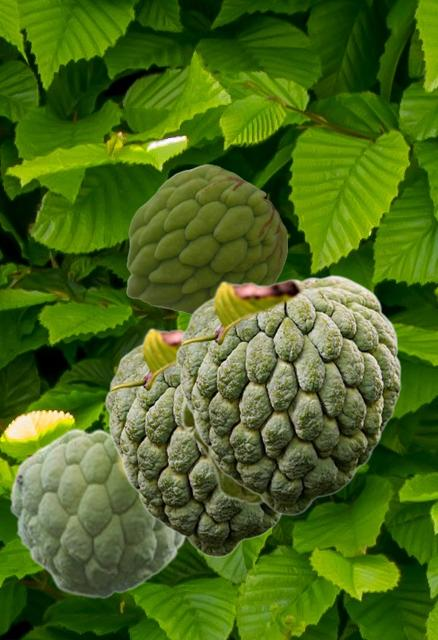atis: (175, 274, 400, 514), (104, 327, 282, 556), (9, 428, 187, 597), (126, 164, 286, 314), (178, 398, 264, 504)
